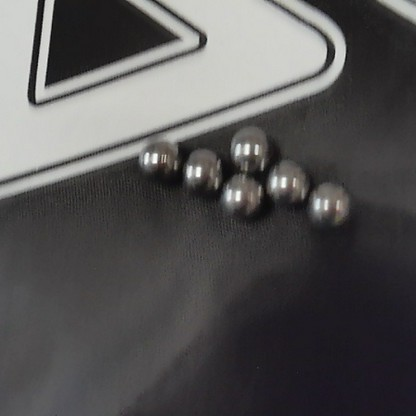ironball: (308, 181, 351, 227), (266, 161, 308, 206), (182, 148, 218, 191), (223, 177, 263, 215), (231, 128, 265, 171), (137, 141, 176, 177)
